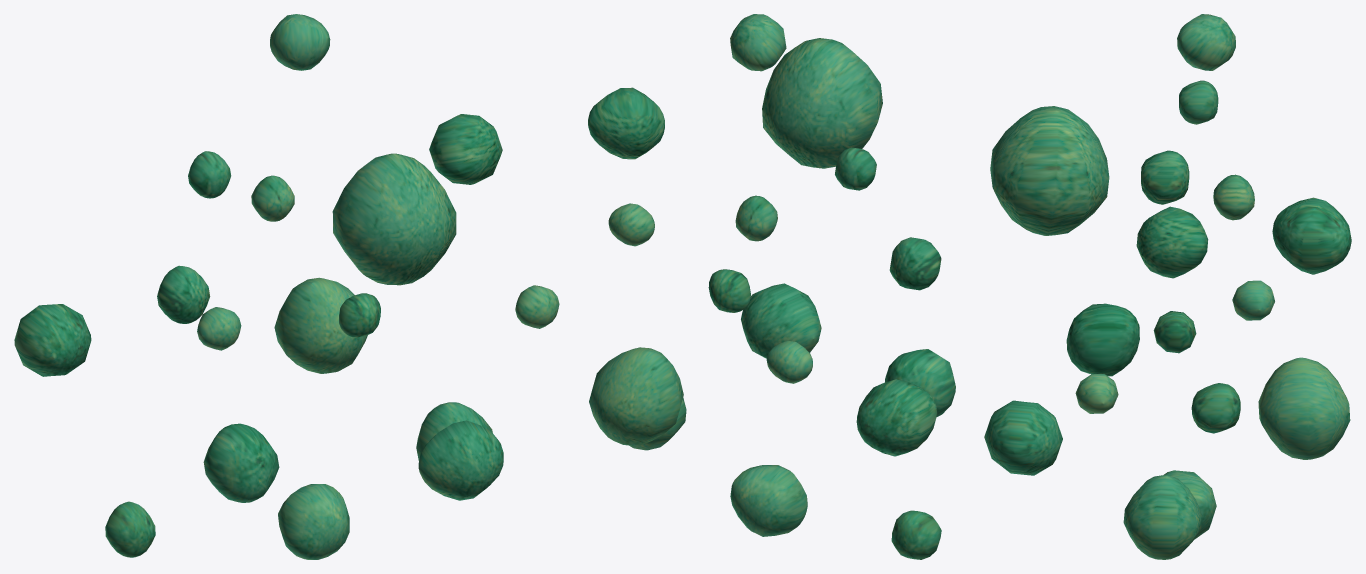
Rendered from aphanocapsa_dynamic_inside_12_3_15.fbx.
3 renders of one model, left to right at view 1: azimuth 30°, elevation 25°; view 2: azimuth 150°, elevation 25°; view 3: azimuth 270°, elevation 25°, orthographic.
Parts seen in each view (by area): view 1: polySurface166; view 2: polySurface166; view 3: polySurface166.
Boxes of the visible parts, <box> form: polySurface166: <box>14,14,559,559</box>; polySurface166: <box>588,14,955,559</box>; polySurface166: <box>984,14,1351,559</box>.
Size of the model in its own units: 6.76 by 7.98 by 5.1.
